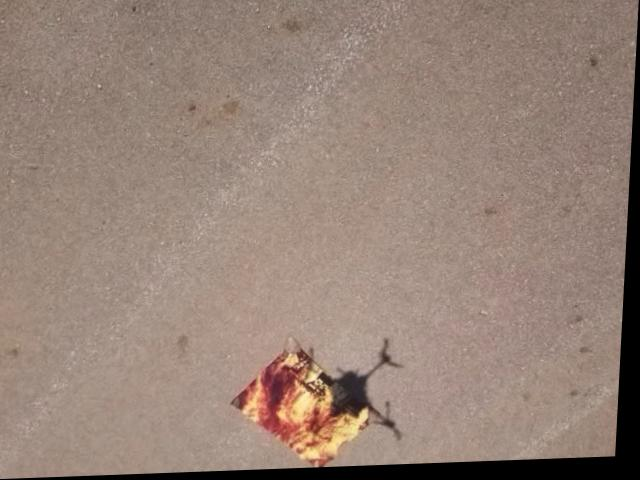fire-poster: (231, 335, 382, 473)
